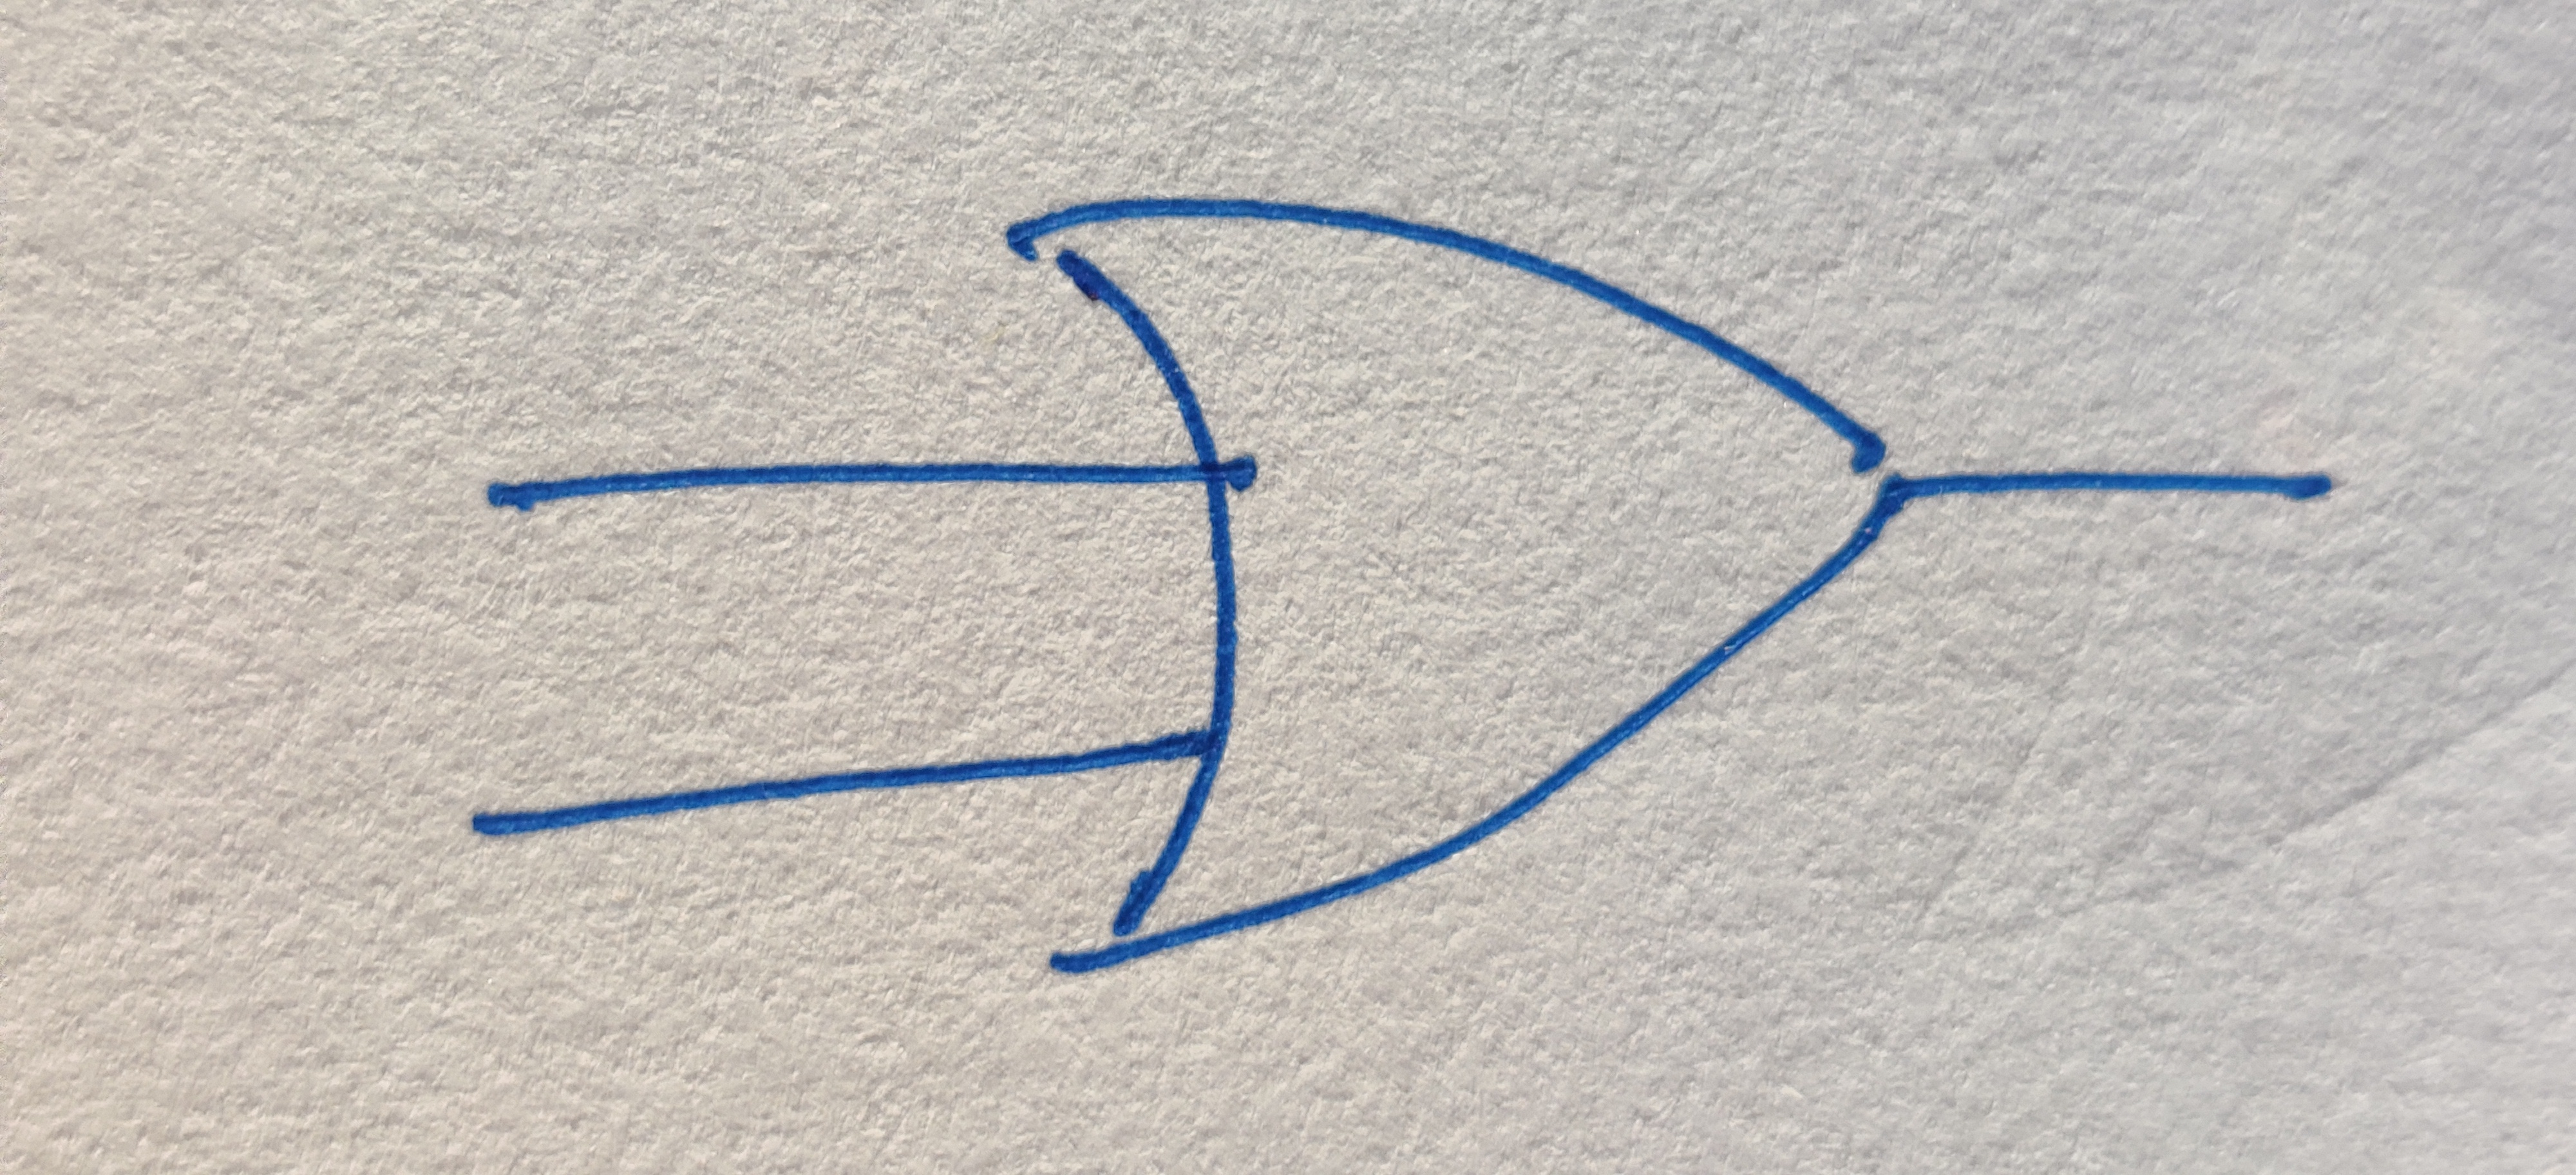or: (1009, 202, 1911, 970)
